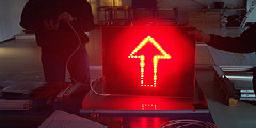LED: (122, 30, 178, 95)
